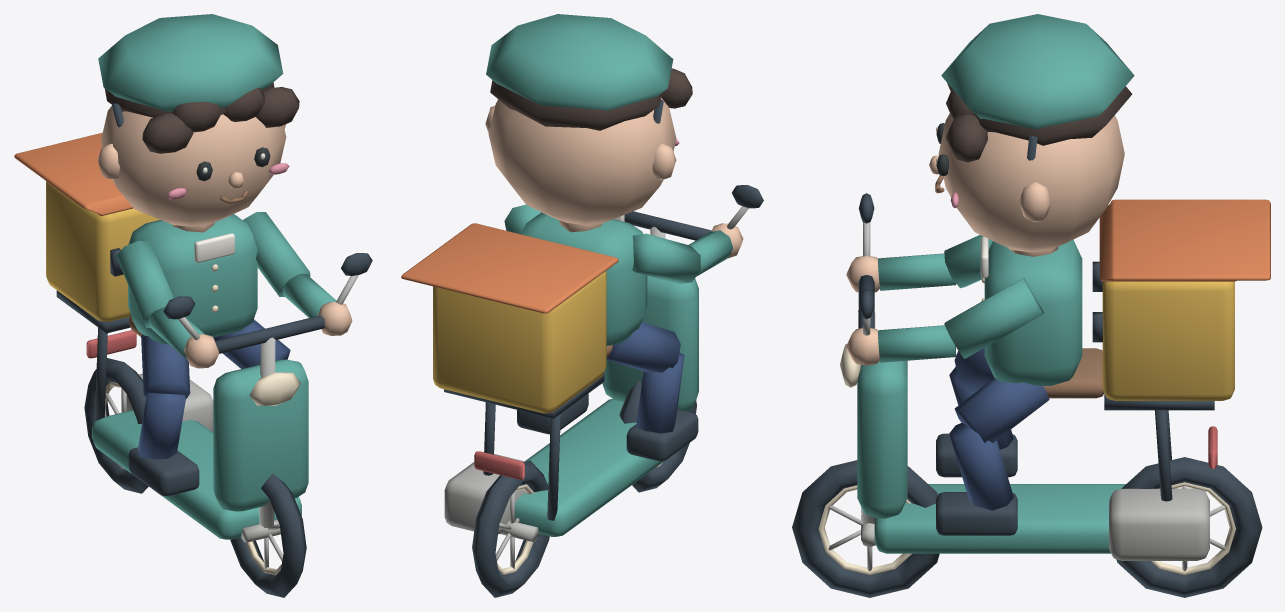
The model's file is person-rider.glb.
3 renders of one model, left to right at view 1: azimuth 30°, elevation 25°; view 2: azimuth 150°, elevation 25°; view 3: azimuth 270°, elevation 25°, orthographic. The views are drawn at different scales.
Parts seen in each view (by area): view 1: jacket; view 2: jacket; view 3: jacket.
Boxes of the visible parts, x1,y1,x2,y2 form: jacket: (14, 14, 372, 597); jacket: (401, 14, 763, 597); jacket: (792, 14, 1270, 597).
Bounding box in the file's own units: 0.731 × 1.69 × 1.31.
1 material, 1 textured.
